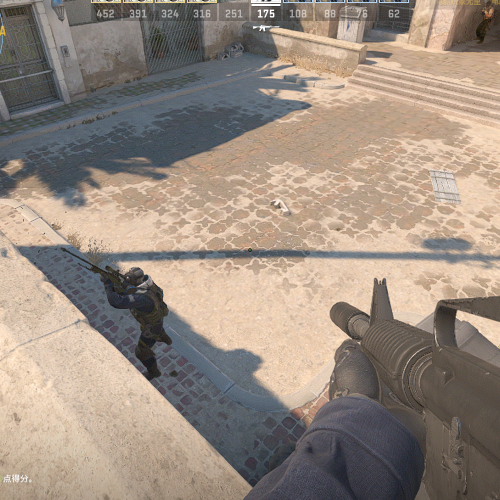ct_body: (104, 269, 173, 381)
ct_head: (124, 268, 146, 288)
t_body: (475, 1, 495, 42)
t_head: (483, 1, 494, 9)
